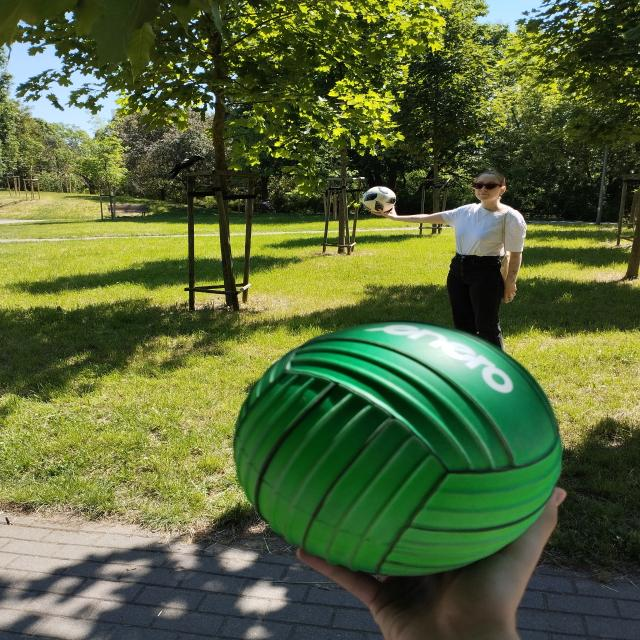nozna: (362, 187, 396, 213)
zielona: (233, 321, 564, 576)
